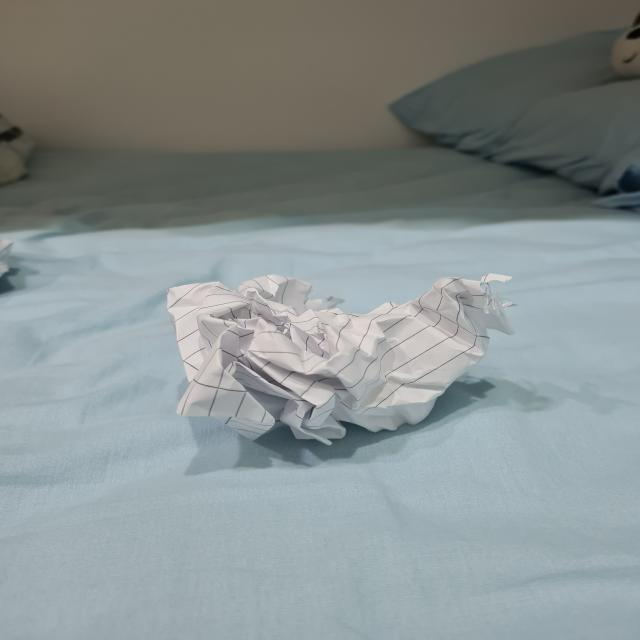Paper: (178, 264, 515, 452)
